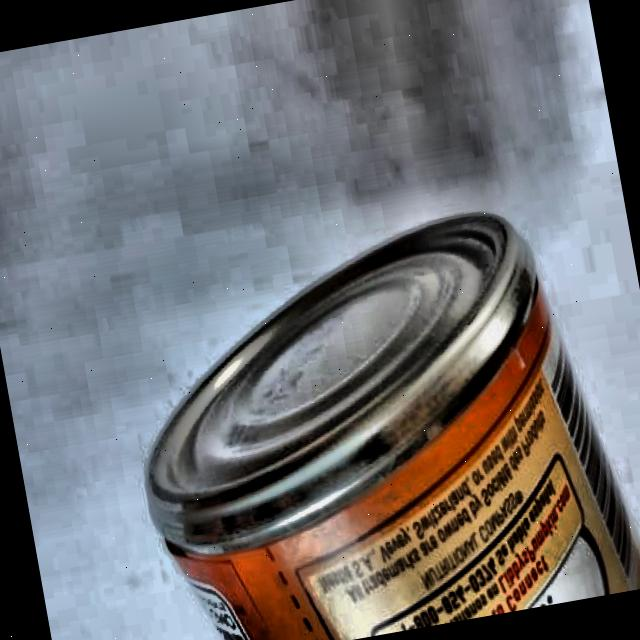metal: (113, 200, 632, 640)
